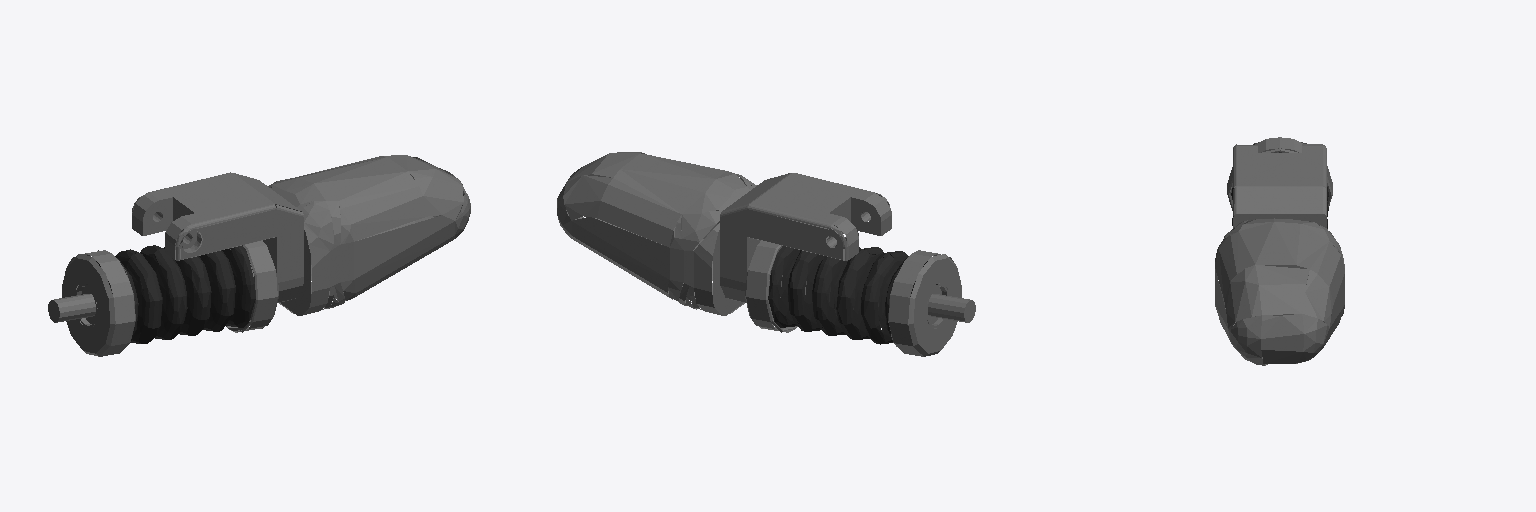
The picture shows the model from 3 angles: view 1: azimuth 30°, elevation 25°; view 2: azimuth 150°, elevation 25°; view 3: azimuth 270°, elevation 25°; orthographic projection.
Bounding box in the file's own units: 0.0599 × 0.0193 × 0.0167.
Materials: 1 (1 with a texture image).